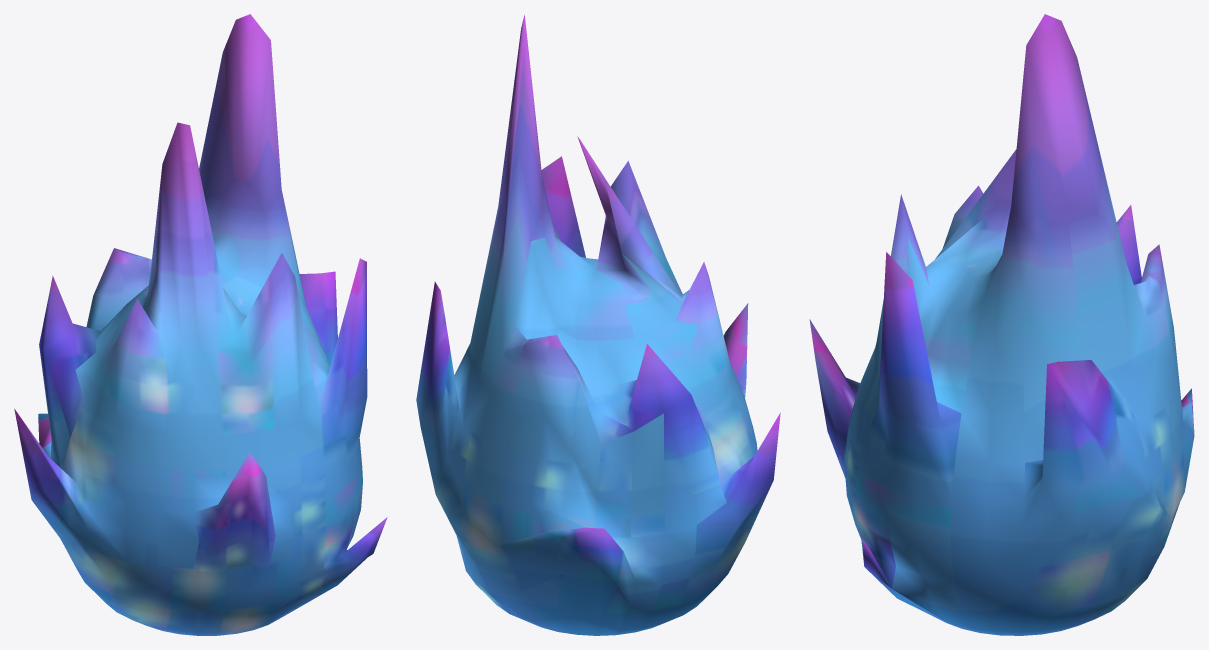
Rendered from fruit3.fbx.
The picture shows the model from 3 angles, left to right: view 1: azimuth 30°, elevation 25°; view 2: azimuth 150°, elevation 25°; view 3: azimuth 270°, elevation 25°; orthographic projection. The views are drawn at different scales.
Visible parts, largest first — view 1: fruit_5; view 2: fruit_5; view 3: fruit_5.
Part boxes in pixels (x1,y1,x2,y2): fruit_5: (14, 14, 387, 635); fruit_5: (416, 15, 780, 635); fruit_5: (809, 14, 1194, 635).
Size of the model in its own units: 2.44 by 4.04 by 2.25.
Materials: 1 (1 with a texture image).
